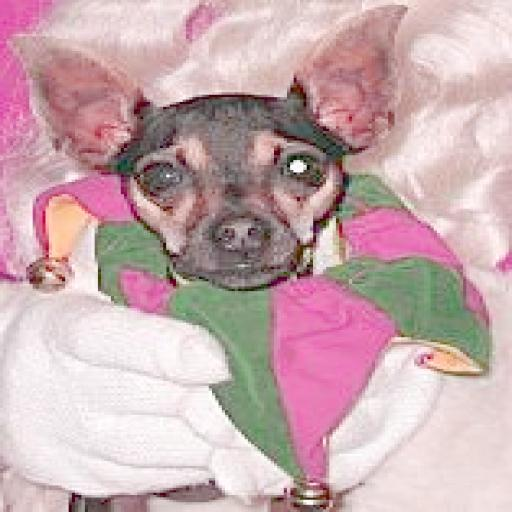dog_face: (29, 22, 401, 291)
